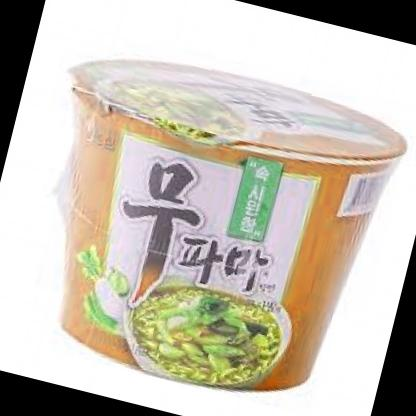Ramen: (6, 34, 403, 416)
